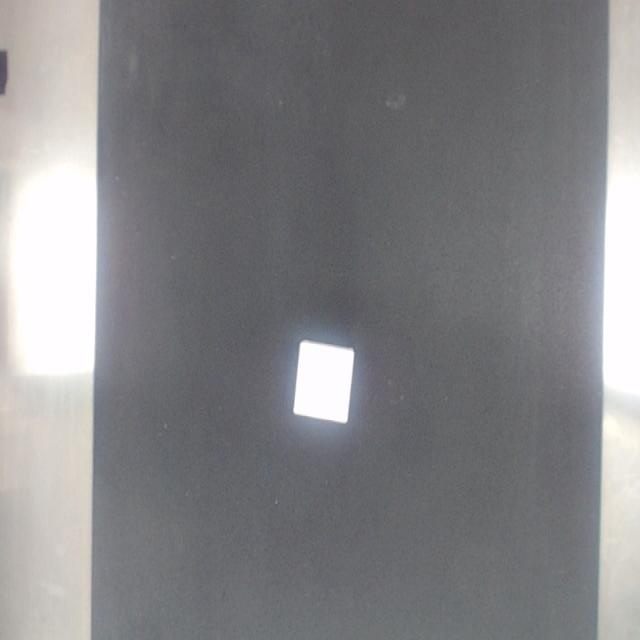Blanco: (294, 341, 354, 423)
